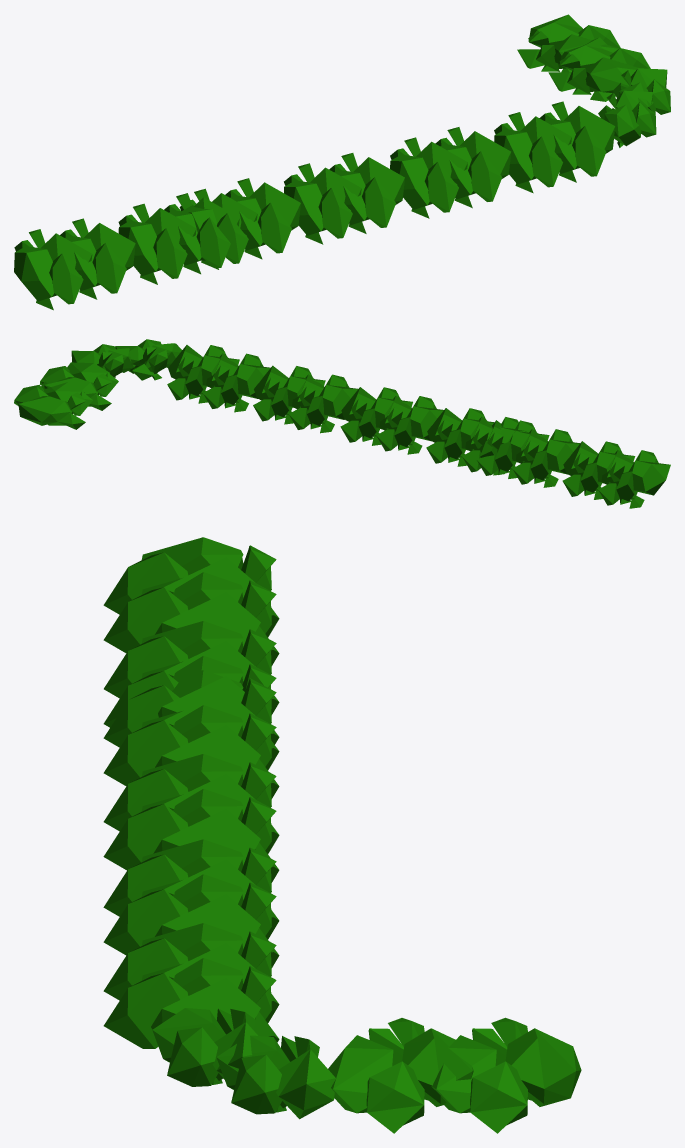
Rendered from bushesLeft.gltf.
3 renders of one model, top to bottom at view 1: azimuth 30°, elevation 25°; view 2: azimuth 150°, elevation 25°; view 3: azimuth 270°, elevation 25°, orthographic. The views are drawn at different scales.
Parts seen in each view (by area): view 1: Bush.004, Bush.006, Bush.005_PCA; view 2: Bush.004, Bush.006, Bush.005_PCA; view 3: Bush.004, Bush.006, Bush.005_PCA.
Part boxes in pixels (x1,y1,x2,y2): Bush.004: (14, 101, 615, 310); Bush.006: (517, 14, 650, 101); Bush.005_PCA: (598, 68, 670, 147); Bush.004: (167, 345, 670, 508); Bush.006: (14, 362, 118, 429); Bush.005_PCA: (71, 339, 181, 380); Bush.004: (103, 537, 279, 1048); Bush.006: (328, 1017, 581, 1133); Bush.005_PCA: (152, 1008, 335, 1119).
Size of the model in its own units: 43.09 by 3.64 by 15.56.
